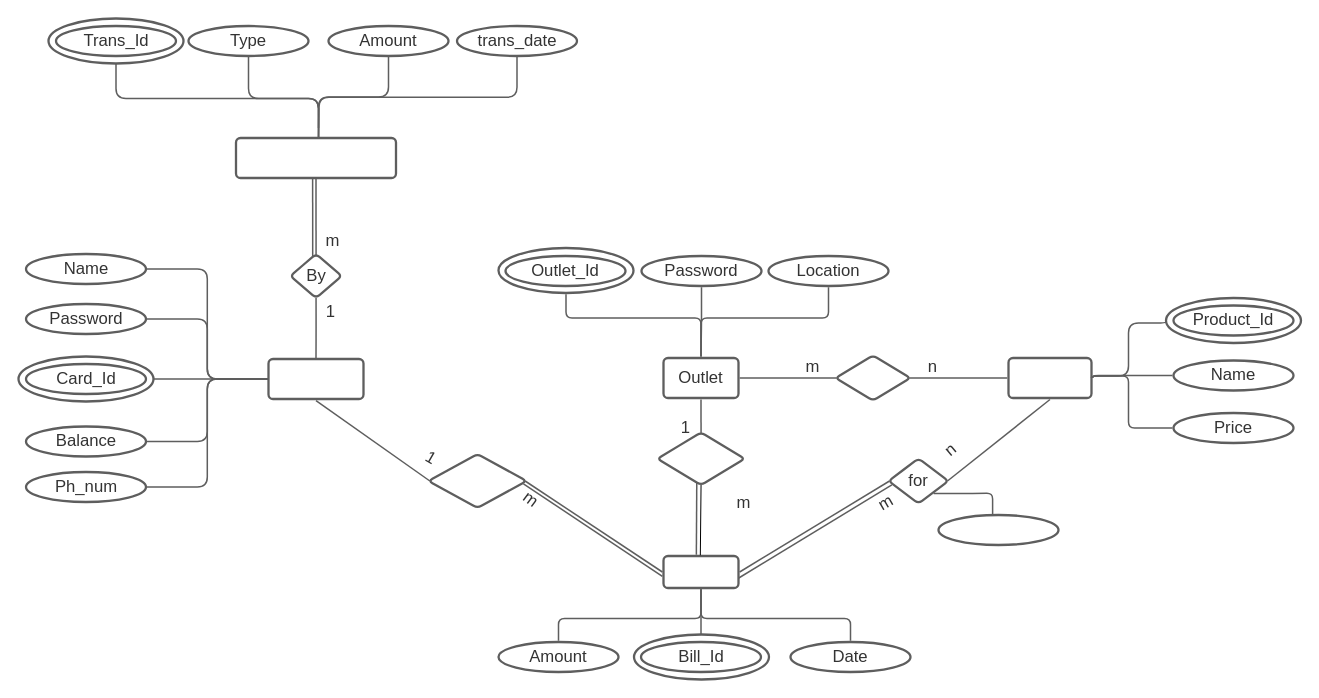
Image size: 1319x698. Some labels were removed from this diagram. Each missing label, with the box of its shape:
Bill: (662, 554, 739, 589)
Customer: (267, 357, 364, 400)
Fin_transaction: (234, 136, 397, 179)
gen_at: (656, 431, 746, 486)
Paid by: (427, 452, 527, 509)
Products: (1007, 356, 1092, 399)
Quantity: (937, 513, 1059, 546)
sells: (834, 354, 911, 401)
